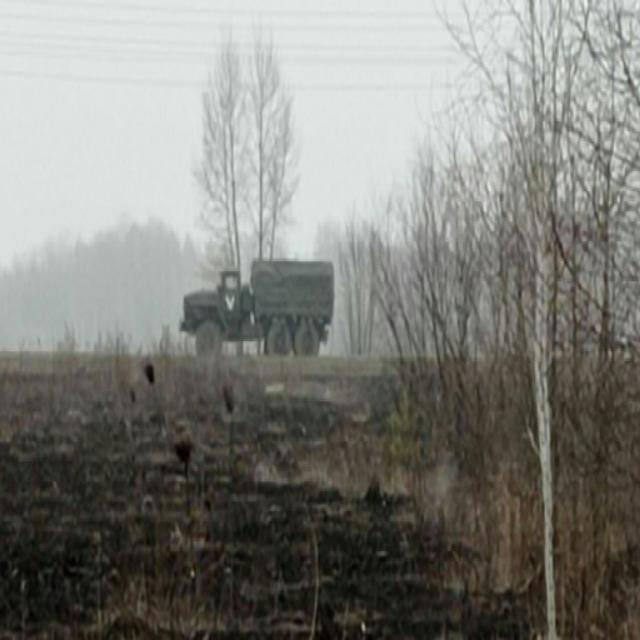TRUCK: (171, 245, 339, 366)
